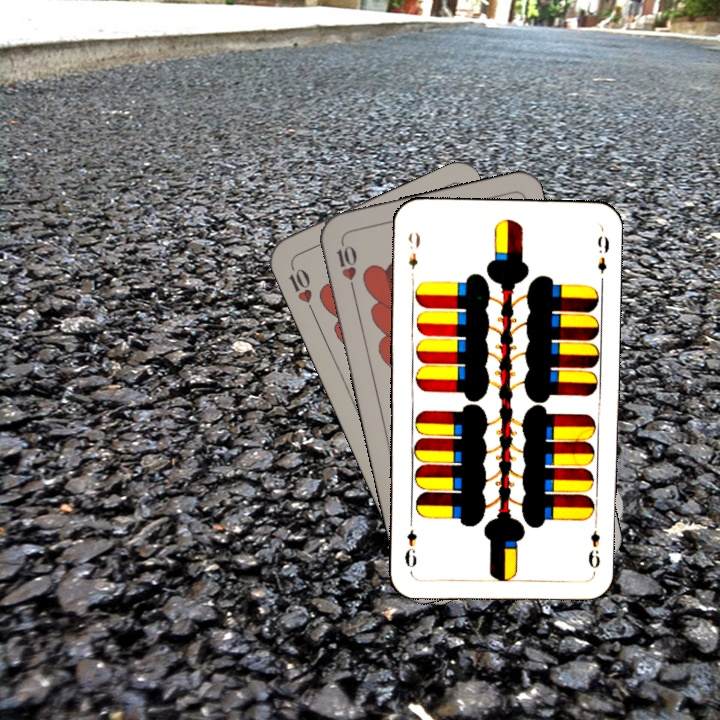E9: (584, 526, 603, 571), (404, 228, 423, 272)
H10: (284, 260, 317, 316), (333, 237, 359, 295)
